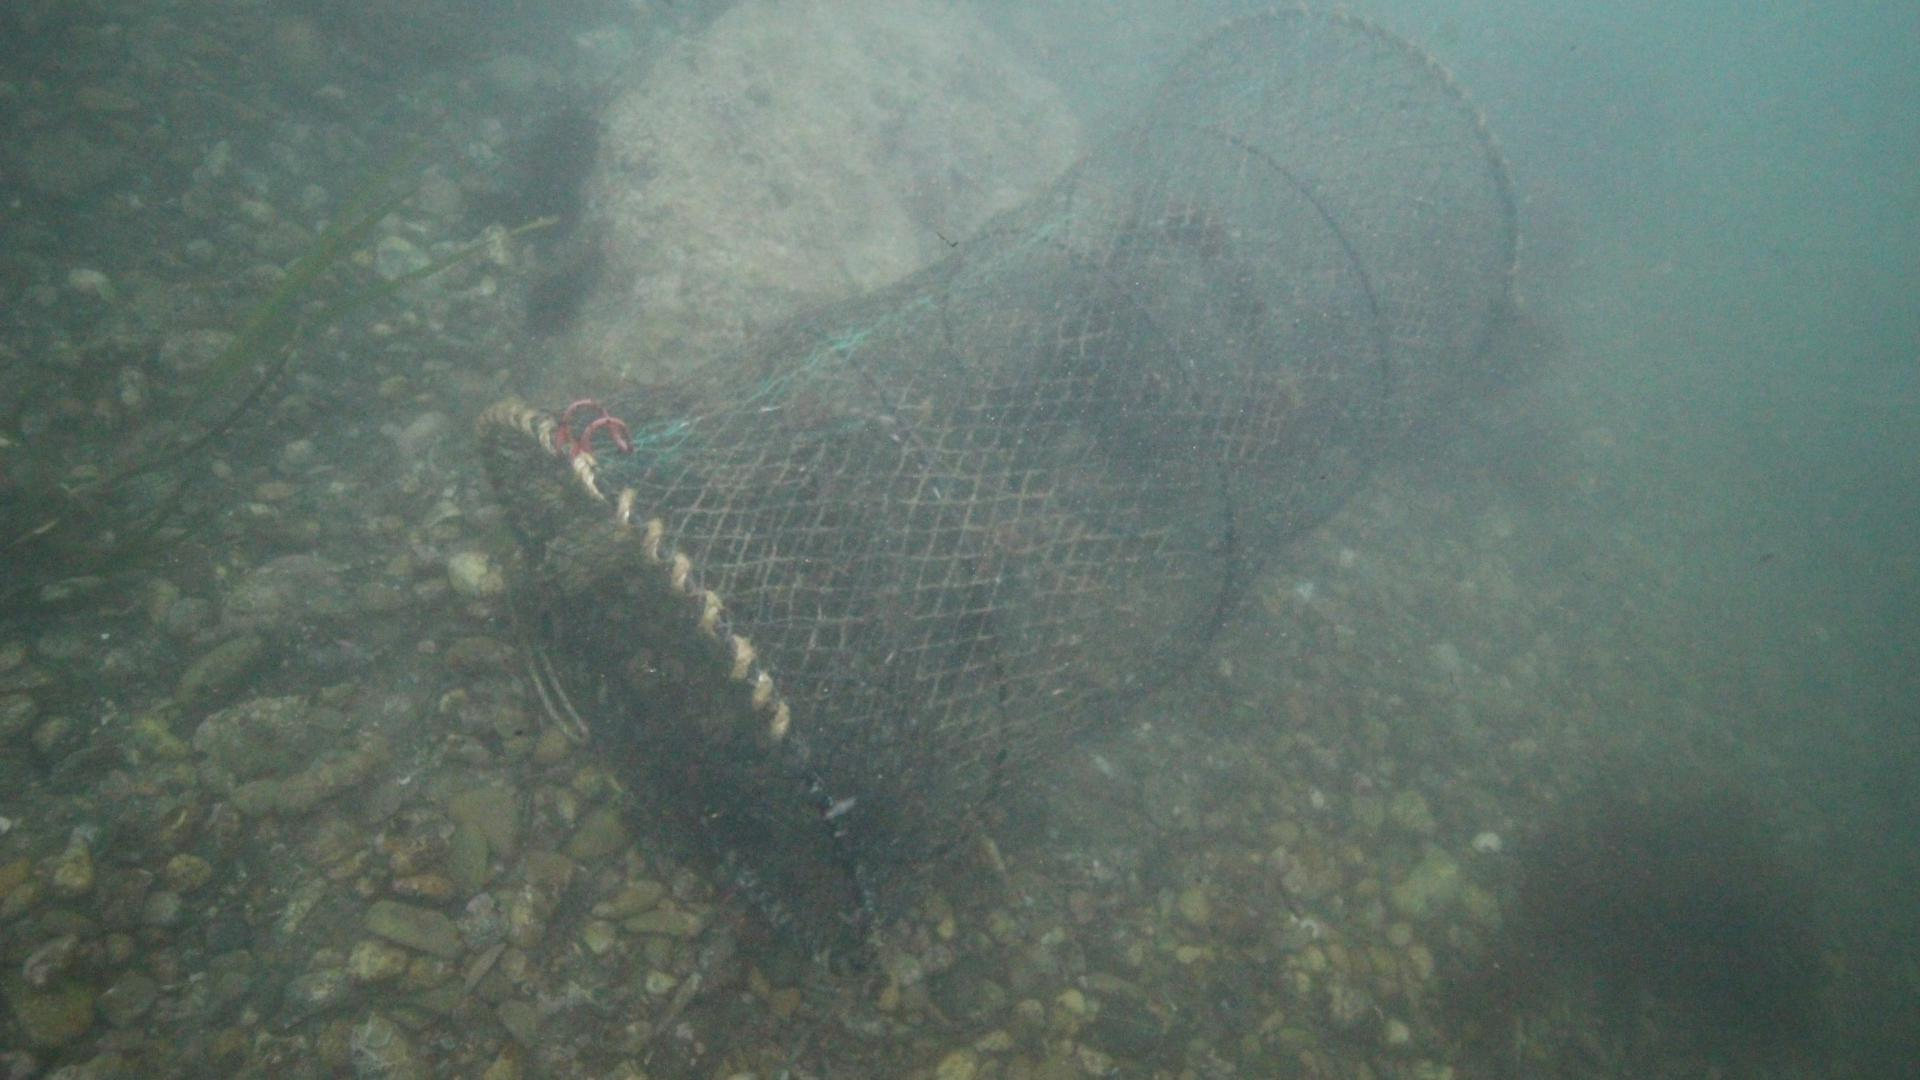spring fish trap: (471, 3, 1515, 963)
